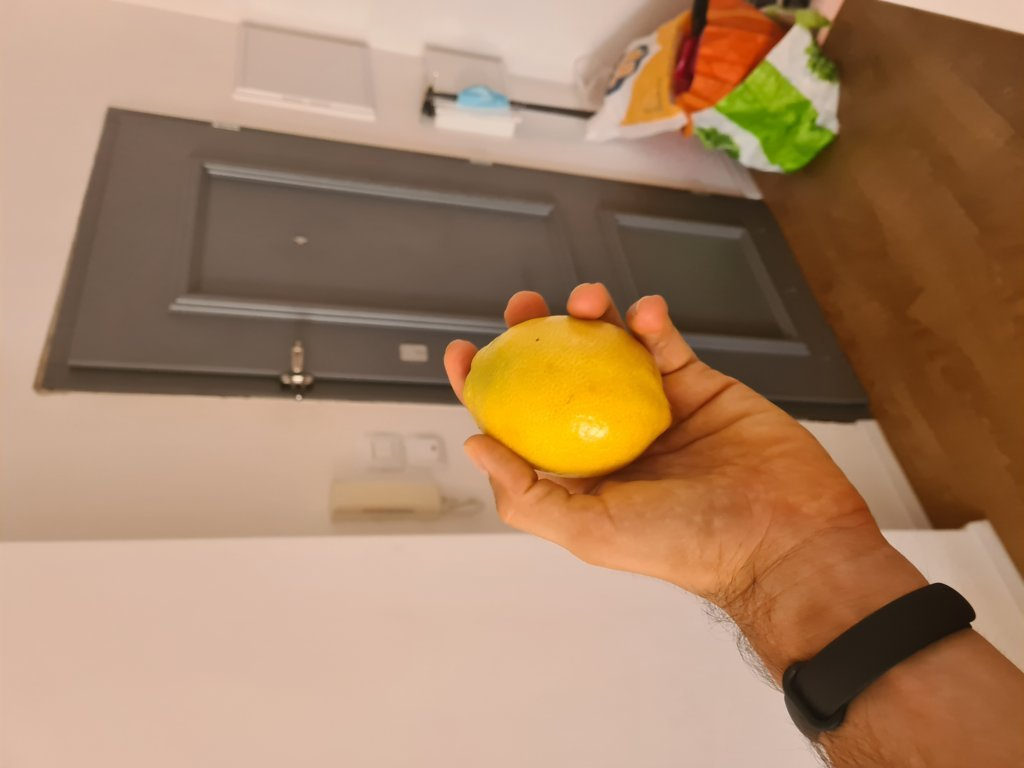lemon: (461, 323, 674, 467)
